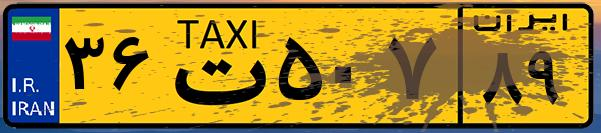0: (330, 28, 385, 110)
3: (57, 26, 110, 100)
5: (270, 28, 330, 110)
6: (110, 28, 158, 98)
7: (385, 28, 445, 110)
8: (475, 38, 525, 113)
9: (525, 38, 570, 115)
ت: (158, 12, 270, 120)
